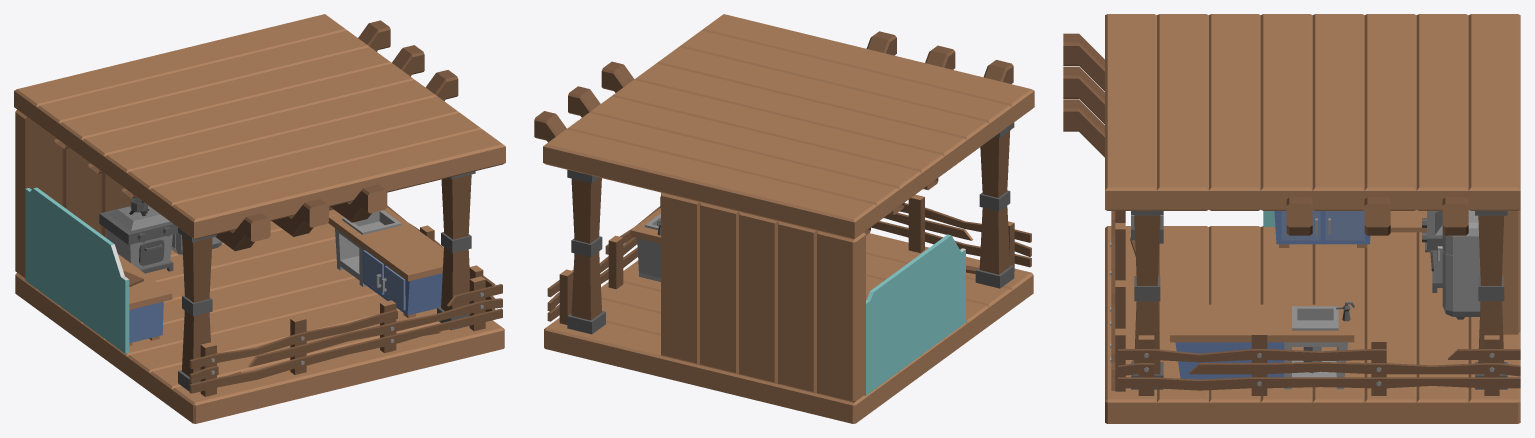
Rendered from Kitchen_Level_01_CornerRight.fbx.
3 renders of one model, left to right at view 1: azimuth 30°, elevation 25°; view 2: azimuth 150°, elevation 25°; view 3: azimuth 270°, elevation 25°, orthographic. The views are drawn at different scales.
Visible parts, largest first — view 1: Kitchen_Level_01_CornerRight; view 2: Kitchen_Level_01_CornerRight; view 3: Kitchen_Level_01_CornerRight.
Part boxes in pixels (bbox=[...]): Kitchen_Level_01_CornerRight: bbox=[14, 14, 505, 423]; Kitchen_Level_01_CornerRight: bbox=[534, 14, 1034, 423]; Kitchen_Level_01_CornerRight: bbox=[1063, 14, 1520, 423].
Bounding box in the file's own units: 8.8 × 5.05 × 8.8.
